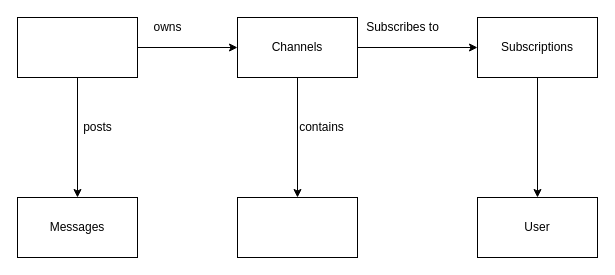
The diagram is 615 pixels wide and 275 high, and some of its shapes have lost their labels. The shapes that lost their labels are listed below. From the top down, each one's centre as x and y in pixels, then its label:
the point at 77,47: Users
the point at 297,227: Channel
